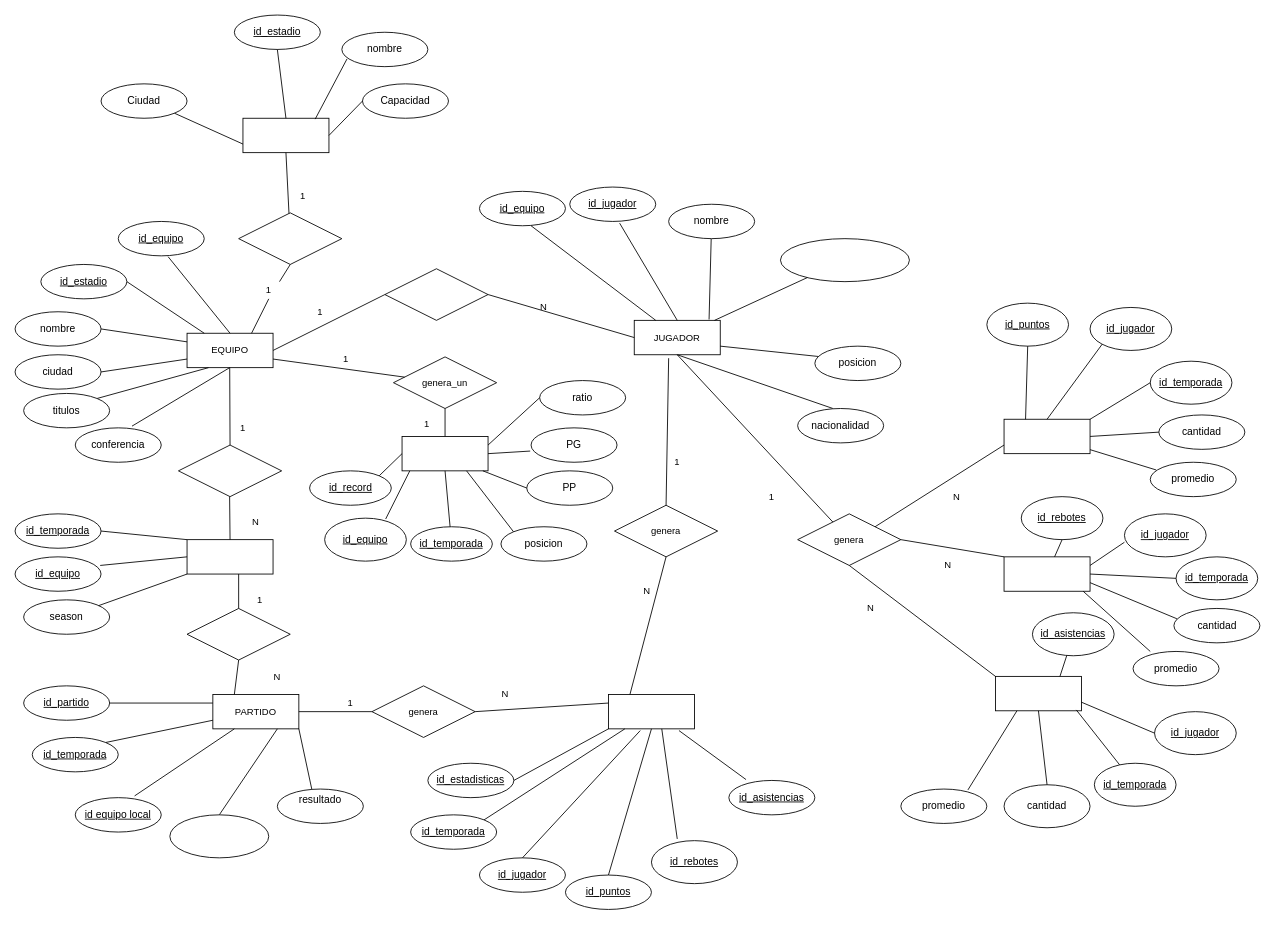
This 1275x925 diagram has some shape labels left out. The shapes that lost their labels are listed below. From the top down, each one's box as (x1, y1, x2, y2) in pixels, then its label:
(242, 117, 329, 153): ESTADIO
(238, 212, 342, 264): juega_en
(780, 238, 909, 282): fecha_nacimiento
(384, 268, 488, 320): compuesto_por
(401, 436, 488, 471): RECORD
(1003, 418, 1090, 454): PUNTOS
(178, 444, 282, 497): participa_en
(186, 539, 273, 574): TEMPORADA
(1003, 556, 1090, 591): REBOTES
(186, 608, 290, 660): compuesta_por
(608, 694, 694, 729): ESTADISTICA
(995, 676, 1081, 711): ASISTENCIAS
(169, 814, 269, 858): id_equipo_visitante
